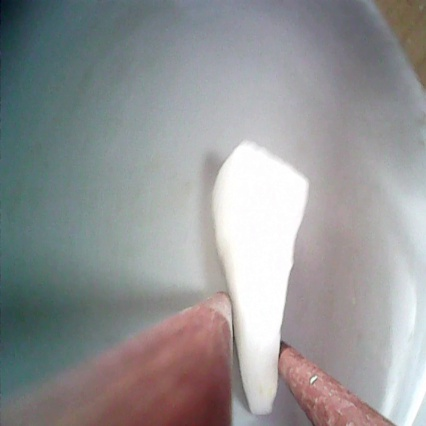white_chinese-yam: (208, 136, 318, 421)
